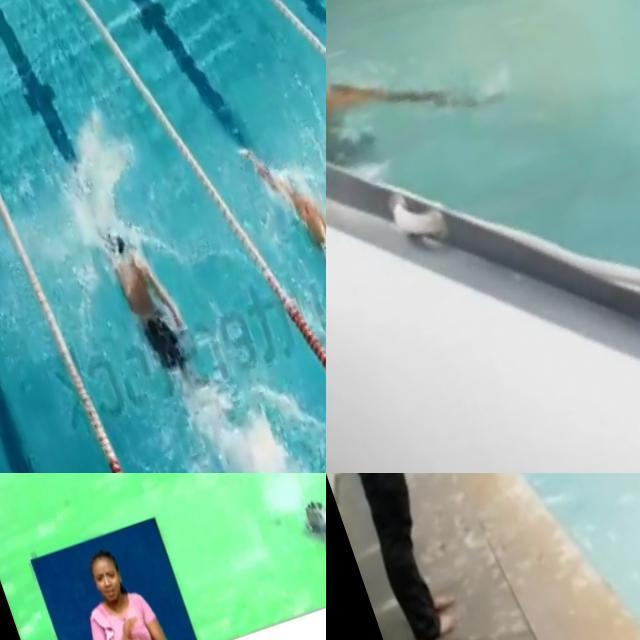3: (326, 0, 416, 164)
6: (74, 188, 216, 441), (227, 65, 326, 342)
drowning: (326, 473, 506, 640)
